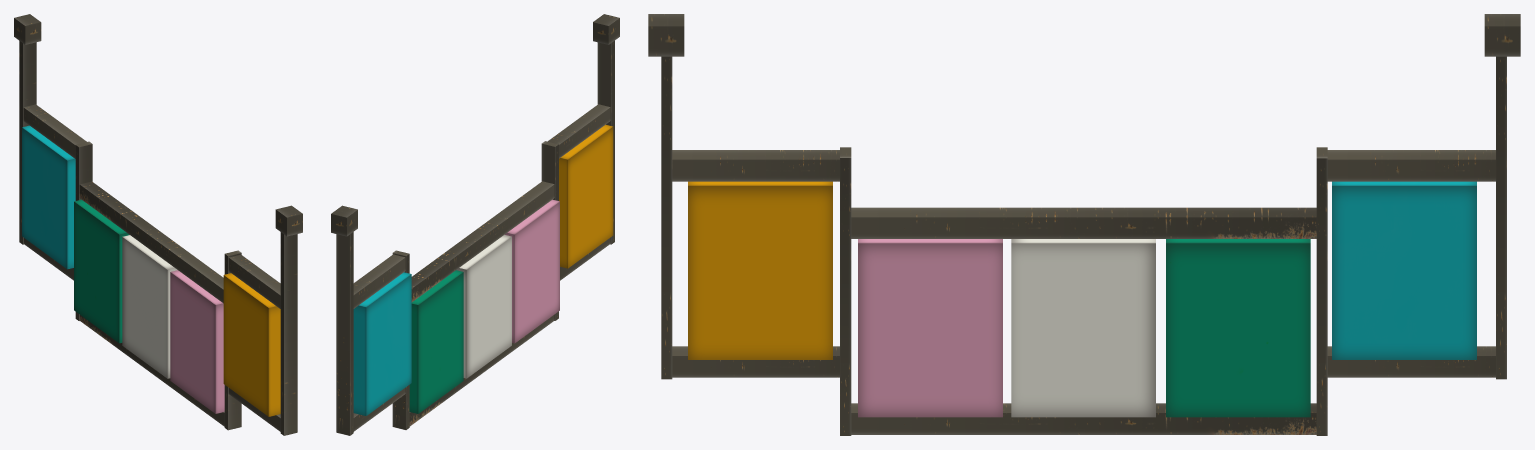
Rendered from raincover06b.fbx.
3 views of the same model, side by side, from view 1: azimuth 30°, elevation 25°; view 2: azimuth 150°, elevation 25°; view 3: azimuth 270°, elevation 25° (orthographic). The views are drawn at different scales.
Parts seen in each view (by area): view 1: raincover06b; view 2: raincover06b; view 3: raincover06b.
Part boxes in pixels (left/top/right/bottom): raincover06b: left=14, top=14, right=302, bottom=435; raincover06b: left=331, top=14, right=619, bottom=435; raincover06b: left=648, top=14, right=1520, bottom=435.
Bounding box in the file's own units: 30.21 × 294 × 566.
